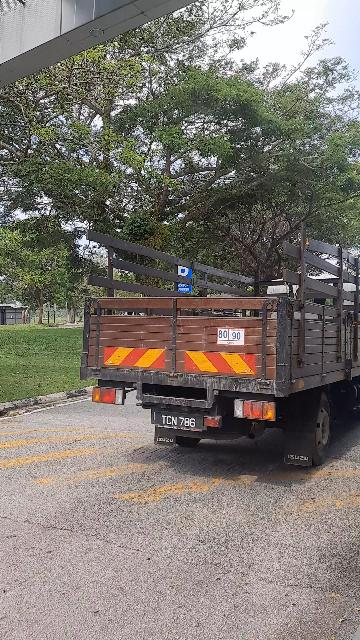License_Plate: (156, 410, 203, 434)
lorry: (75, 221, 360, 467)
